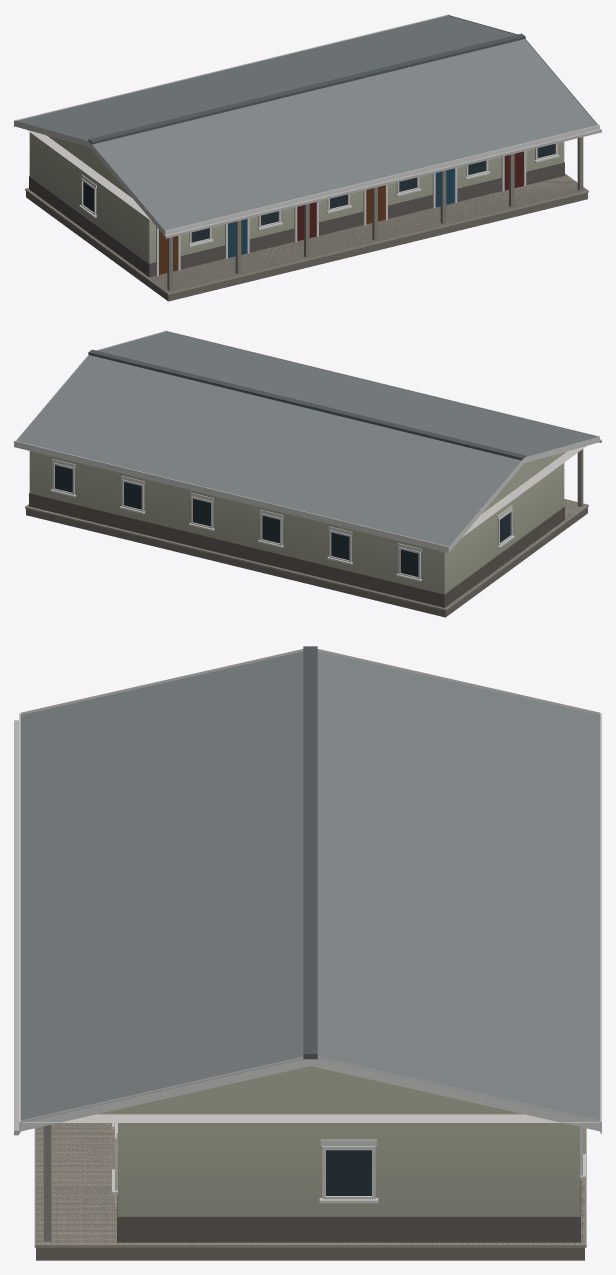
Rendered from ns_faceme_lod1.glb.
3 views of the same model, one above another, from view 1: azimuth 30°, elevation 25°; view 2: azimuth 150°, elevation 25°; view 3: azimuth 270°, elevation 25° (orthographic). The views are drawn at different scales.
Visible parts, largest first — view 1: ns_faceme_lod1; view 2: ns_faceme_lod1; view 3: ns_faceme_lod1.
Boxes of the visible parts, x1,y1,x2,y2 form: ns_faceme_lod1: (14, 14, 601, 301); ns_faceme_lod1: (14, 330, 601, 617); ns_faceme_lod1: (14, 646, 601, 1260).
Size of the model in its own units: 18.92 by 4.58 by 11.46.
